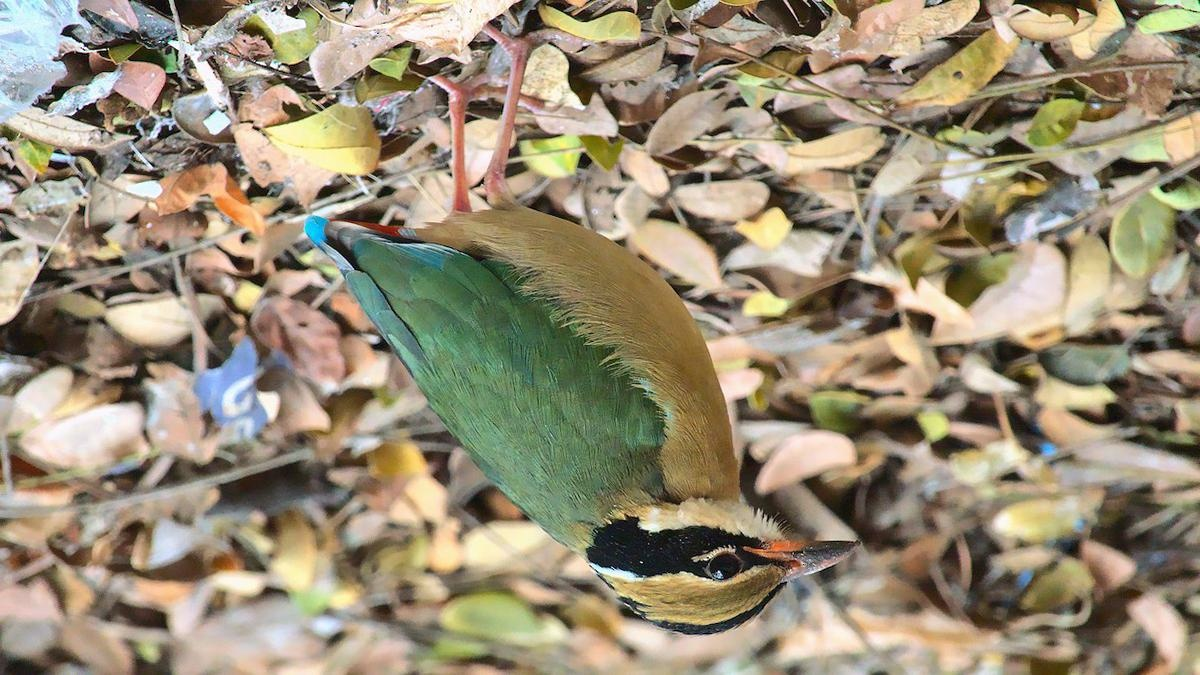pitta: (298, 40, 868, 640)
